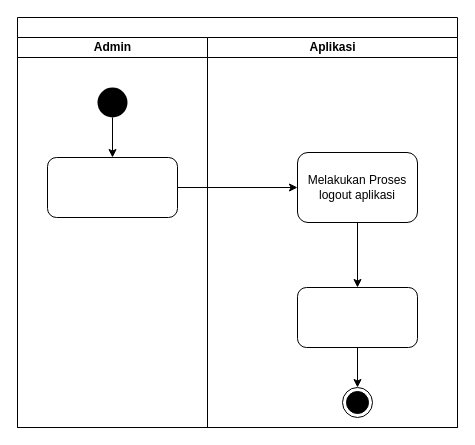
Image size: 475x445. Some labels were removed from this diagram. The shapes that lost their labels are listed below. From the top down, each one's centre as x and y in pixels, then its label:
At (112,187): "Memilih menu Logout".
At (357,317): "Menampilkan Halaman awal aplikasi".
